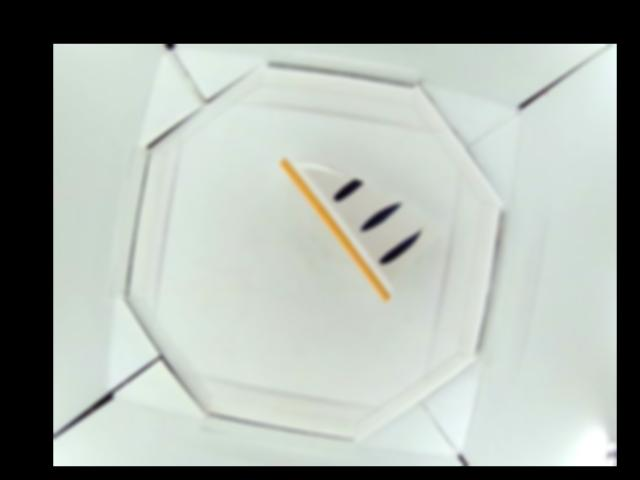China: (281, 156, 430, 303)
